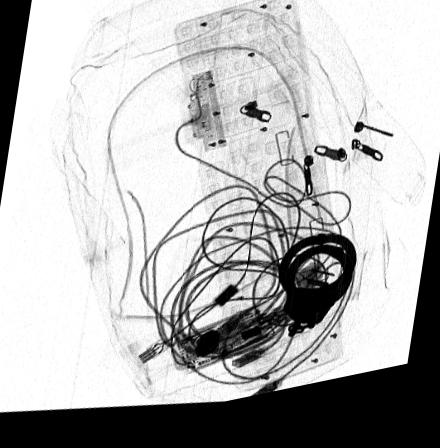HandCuffs: (278, 246, 358, 349)
